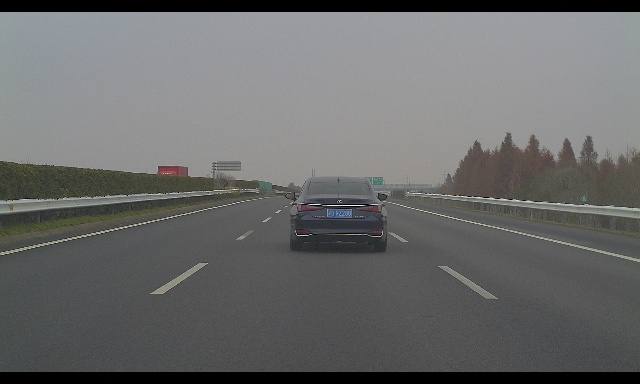car: (285, 176, 388, 252)
truck: (156, 166, 188, 191)
